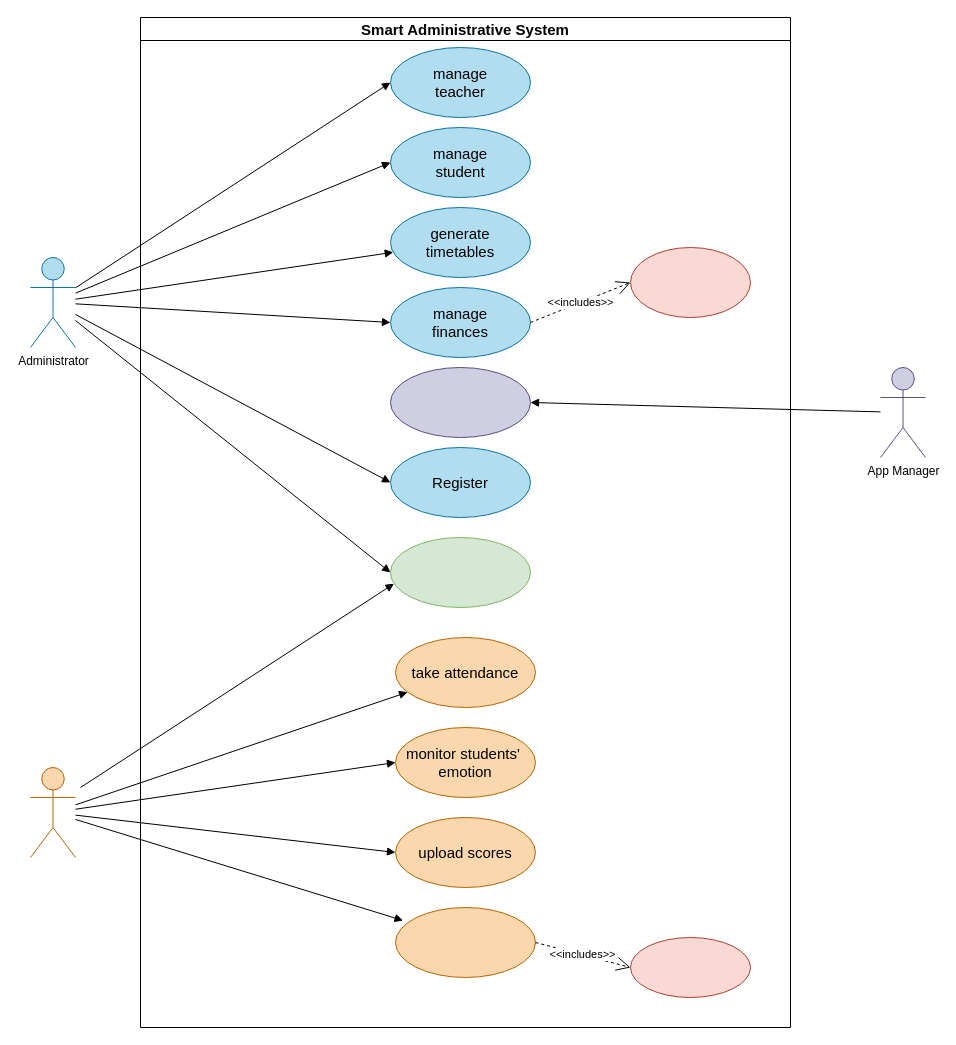
Image size: 956x1045. Some labels were removed from this diagram. The shapes that lost their labels are listed below. From the top down, each one's centre as x and y in pixels, then its label:
At pixel 690 282: "forecast finances".
At pixel 460 402: "retrain models".
At pixel 460 572: "Login".
At pixel 53 812: "Teacher".
At pixel 465 942: "check students' performance".
At pixel 690 967: "predict performance".
